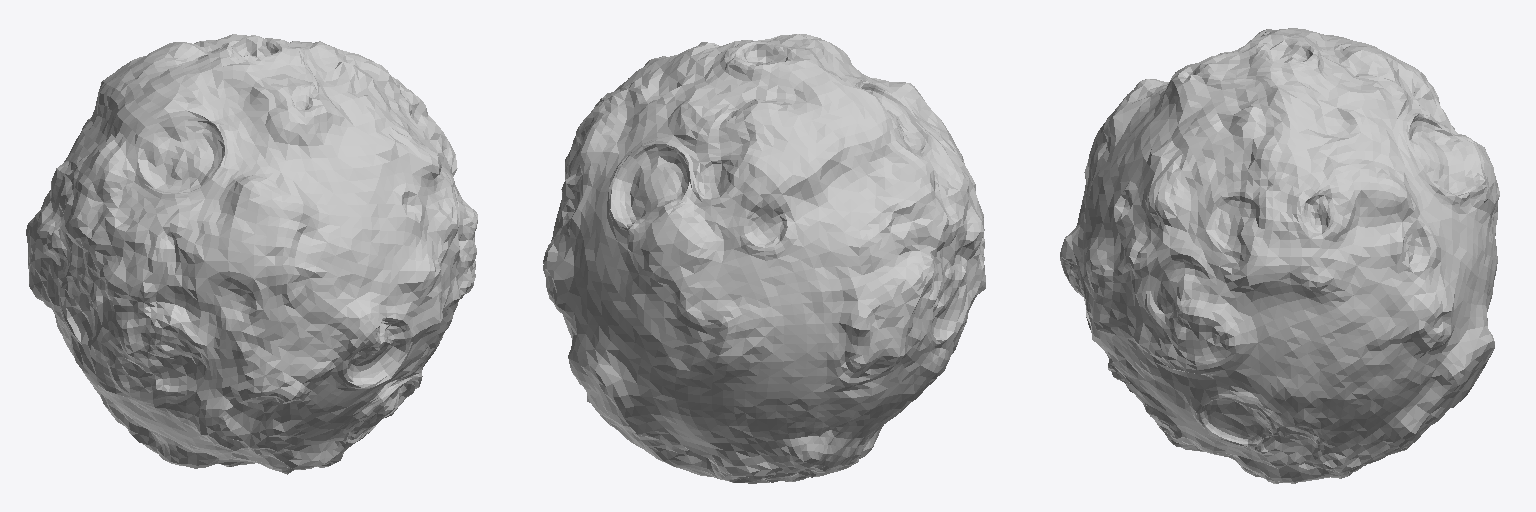
The model's file is Asteroid3PM3D_Asteroid.OBJ.
3 renders of one model, left to right at view 1: azimuth 30°, elevation 25°; view 2: azimuth 150°, elevation 25°; view 3: azimuth 270°, elevation 25°, orthographic.
Parts seen in each view (by area): view 1: Group33740; view 2: Group33740; view 3: Group33740.
Part boxes in pixels (left/top/right/bottom): Group33740: left=26, top=34, right=477, bottom=474; Group33740: left=543, top=34, right=985, bottom=483; Group33740: left=1060, top=28, right=1499, bottom=483.
Size of the model in its own units: 5.96 by 6.27 by 6.1.